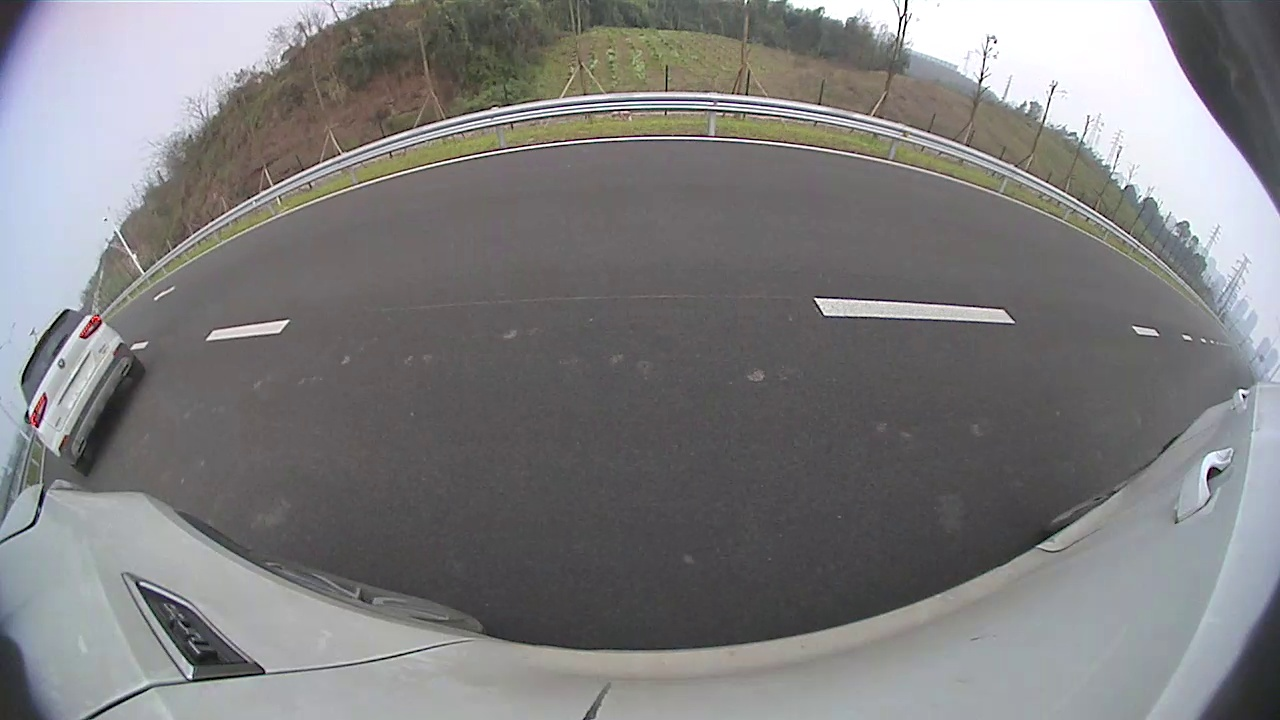car: (19, 308, 146, 477)
